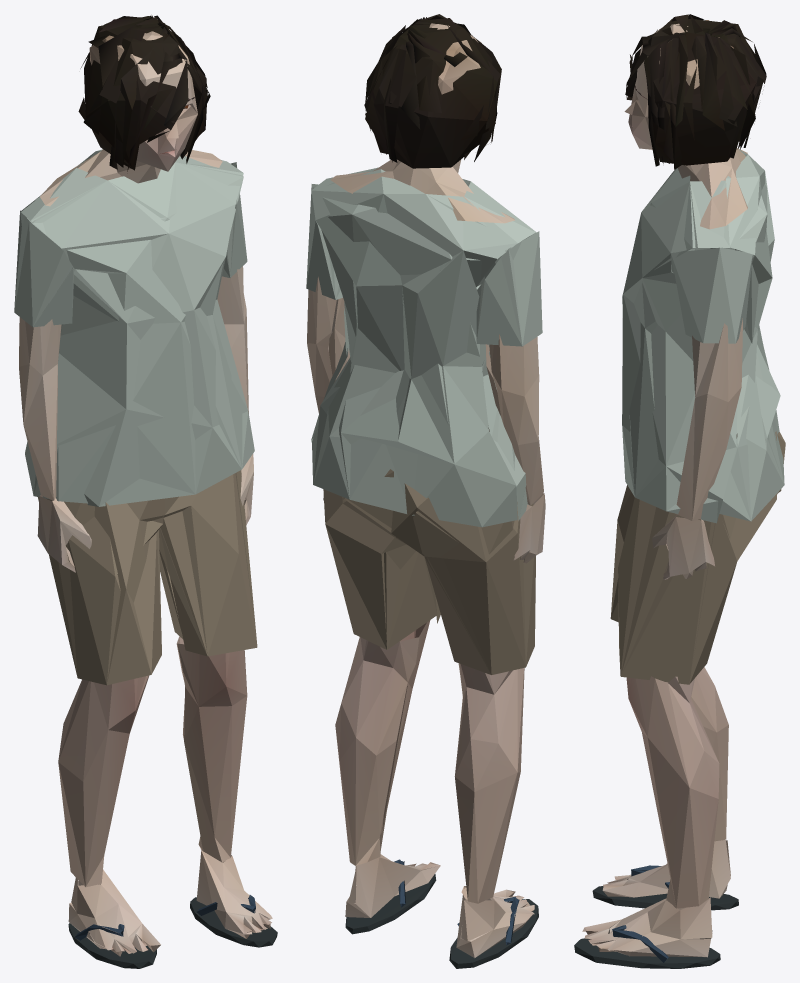
Rendered from person-10-far.glb.
The picture shows the model from 3 angles, left to right: view 1: azimuth 30°, elevation 25°; view 2: azimuth 150°, elevation 25°; view 3: azimuth 270°, elevation 25°; orthographic projection.
Visible parts, largest first — view 1: person-10 far; view 2: person-10 far; view 3: person-10 far.
Boxes of the visible parts, x1,y1,x2,y2 form: person-10 far: [14, 15, 277, 968]; person-10 far: [306, 14, 545, 968]; person-10 far: [574, 14, 785, 968].
Size of the model in its own units: 0.4294 by 1.67 by 0.3528.
